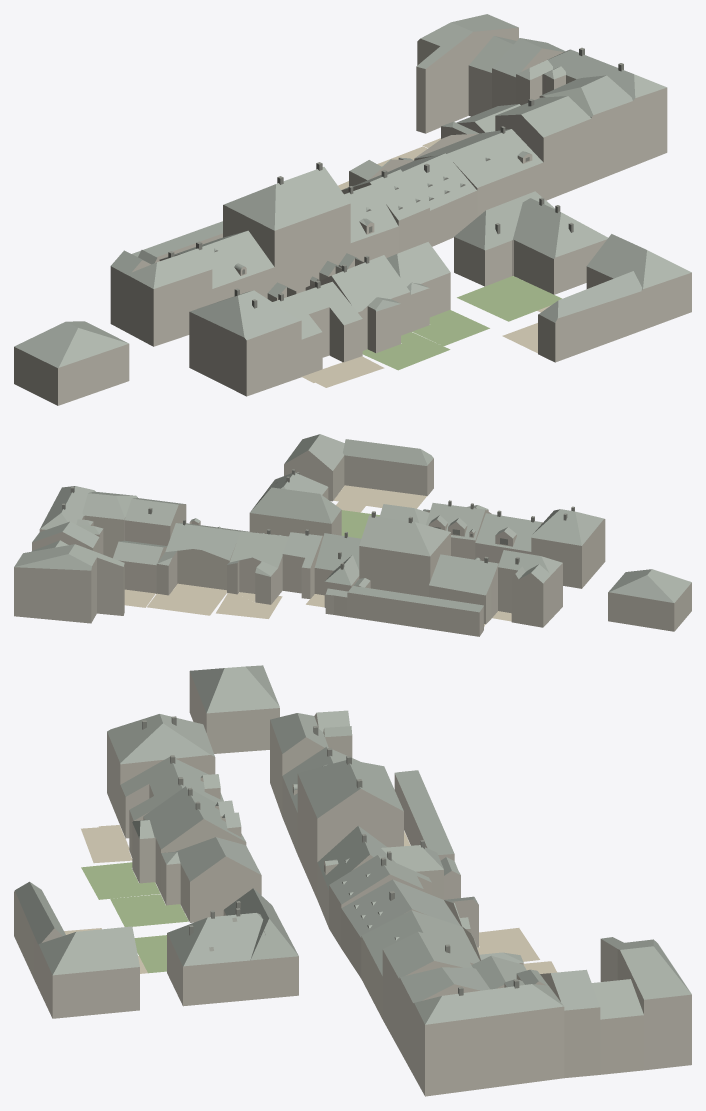
Rendered from kulova_gpt_roofs_v1.glb.
3 renders of one model, top to bottom at view 1: azimuth 30°, elevation 25°; view 2: azimuth 150°, elevation 25°; view 3: azimuth 270°, elevation 25°, orthographic. The views are drawn at different scales.
Visible parts, largest first — view 1: cp256_walls, cp259_walls, cp267_walls, cp262_walls, cp260_walls, cp257_roof, cp262_roof, cp257_walls, cp270_walls, cp256_roof, cp267_roof, cp154_walls (+31 smaller); view 2: cp262_walls, cp270_walls, cp256_walls, cp262_roof, cp260_walls, cp257_roof, cp267_roof, cp256_roof, cp265_walls, cp259_walls, cp154_walls, cp266_walls (+28 smaller); view 3: cp267_walls, cp262_walls, cp267_roof, cp257_roof, cp256_walls, cp262_roof, cp257_walls, cp256_roof, cp270_walls, cp1712_walls, cp259_roof, cp266_roof (+31 smaller).
Boxes of the visible parts, x1,y1,x2,y2 form: cp256_walls: (538, 266, 691, 362); cp259_walls: (189, 312, 301, 396); cp267_walls: (516, 74, 667, 182); cp262_walls: (157, 203, 350, 293); cp260_walls: (110, 258, 212, 346); cp257_roof: (454, 191, 607, 258); cp262_roof: (132, 167, 350, 257); cp257_walls: (454, 237, 606, 294); cp270_walls: (416, 27, 518, 133); cp256_roof: (539, 234, 691, 322); cp267_roof: (516, 49, 666, 117); cp154_walls: (14, 344, 129, 405); cp262_walls: (347, 533, 483, 636); cp270_walls: (14, 557, 124, 623); cp256_walls: (284, 450, 433, 501); cp262_roof: (347, 515, 483, 612); cp260_walls: (498, 563, 562, 627); cp257_roof: (250, 472, 341, 523); cp267_roof: (40, 486, 137, 534); cp256_roof: (284, 434, 433, 470); cp265_walls: (156, 520, 251, 595); cp259_walls: (531, 519, 605, 588); cp154_walls: (608, 583, 691, 631); cp266_walls: (119, 504, 186, 593); cp267_walls: (399, 974, 564, 1096); cp262_walls: (297, 773, 454, 899); cp267_roof: (400, 967, 563, 1024); cp257_roof: (167, 888, 298, 966); cp256_walls: (14, 891, 139, 1018); cp262_roof: (297, 760, 454, 855); cp257_walls: (167, 910, 298, 1006); cp256_roof: (15, 881, 139, 975); cp270_walls: (600, 939, 691, 1070); cp1712_walls: (161, 853, 261, 922); cp259_roof: (107, 714, 214, 764); cp266_roof: (382, 931, 526, 989).
Size of the model in its own units: 142 by 19.35 by 105.
